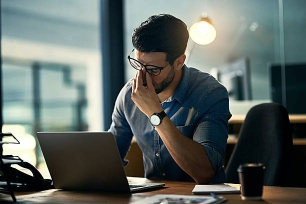male: (128, 20, 189, 96)
